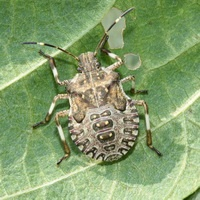insect: (22, 8, 161, 163)
